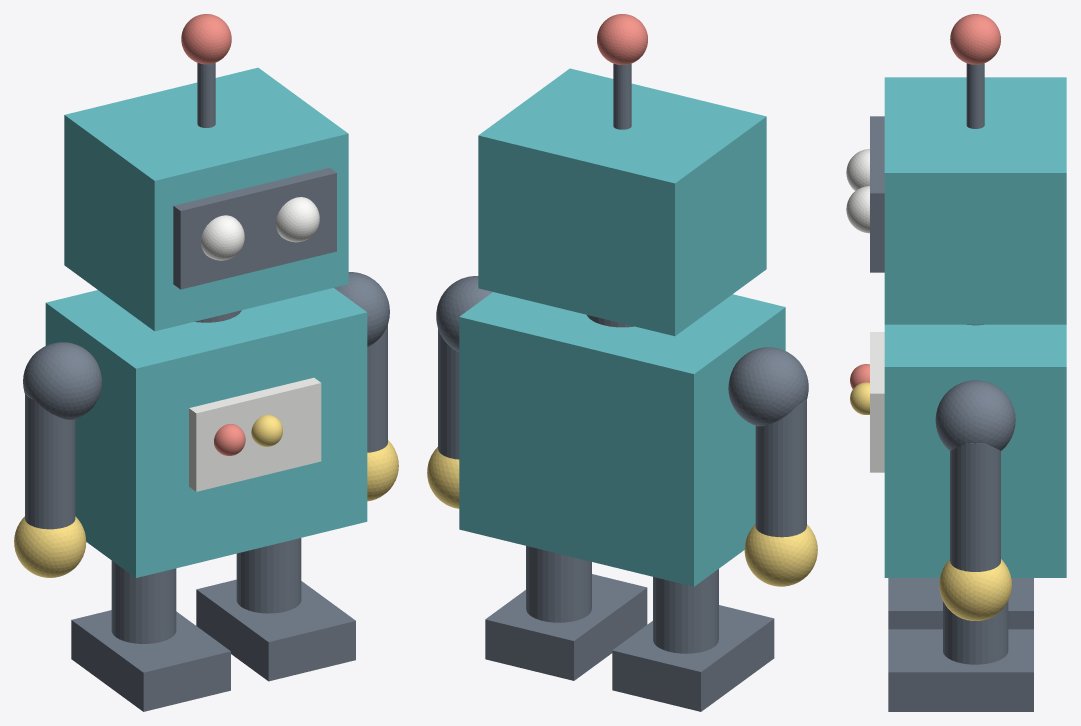
Rendered from robot.glb.
3 renders of one model, left to right at view 1: azimuth 30°, elevation 25°; view 2: azimuth 150°, elevation 25°; view 3: azimuth 270°, elevation 25°, orthographic.
Parts seen in each view (by area): view 1: robot_4, robot_15, robot_16, robot_0, robot_2, robot_5, robot_9, robot_8, robot_1, robot_3, robot_10, robot_12 (+8 smaller); view 2: robot_4, robot_15, robot_0, robot_2, robot_9, robot_8, robot_1, robot_3, robot_10, robot_12, robot_20, robot_11 (+2 smaller); view 3: robot_15, robot_4, robot_2, robot_12, robot_11, robot_0, robot_13, robot_3, robot_16, robot_5, robot_20, robot_19 (+4 smaller).
Boxes of the visible parts, left/top/right/bottom form: robot_4: left=45, top=288, right=367, bottom=577; robot_15: left=64, top=67, right=348, bottom=331; robot_16: left=173, top=167, right=336, bottom=289; robot_0: left=71, top=610, right=230, bottom=711; robot_2: left=196, top=579, right=355, bottom=681; robot_5: left=189, top=377, right=321, bottom=491; robot_9: left=25, top=393, right=75, bottom=529; robot_8: left=23, top=342, right=101, bottom=419; robot_1: left=111, top=561, right=176, bottom=643; robot_3: left=236, top=538, right=301, bottom=613; robot_10: left=14, top=516, right=86, bottom=577; robot_12: left=367, top=324, right=387, bottom=452; robot_4: left=459, top=292, right=785, bottom=586; robot_15: left=478, top=68, right=766, bottom=336; robot_0: left=612, top=605, right=774, bottom=711; robot_2: left=485, top=574, right=647, bottom=680; robot_9: left=755, top=399, right=806, bottom=537; robot_8: left=728, top=347, right=808, bottom=426; robot_1: left=653, top=569, right=718, bottom=653; robot_3: left=526, top=546, right=591, bottom=622; robot_10: left=744, top=524, right=817, bottom=586; robot_12: left=438, top=329, right=459, bottom=459; robot_20: left=597, top=14, right=647, bottom=64; robot_11: left=436, top=276, right=492, bottom=351; robot_15: left=884, top=77, right=1066, bottom=324; robot_4: left=884, top=324, right=1066, bottom=577; robot_2: left=888, top=629, right=1033, bottom=711; robot_12: left=950, top=443, right=1000, bottom=571; robot_11: left=935, top=380, right=1015, bottom=450; robot_0: left=888, top=578, right=1033, bottom=629; robot_13: left=939, top=559, right=1011, bottom=620; robot_3: left=943, top=601, right=1008, bottom=664; robot_16: left=870, top=116, right=884, bottom=272; robot_5: left=870, top=332, right=884, bottom=472; robot_20: left=950, top=14, right=1000, bottom=64; robot_19: left=966, top=63, right=984, bottom=128.
Bounding box in the file's own units: 0.12 × 0.195 × 0.0605.
